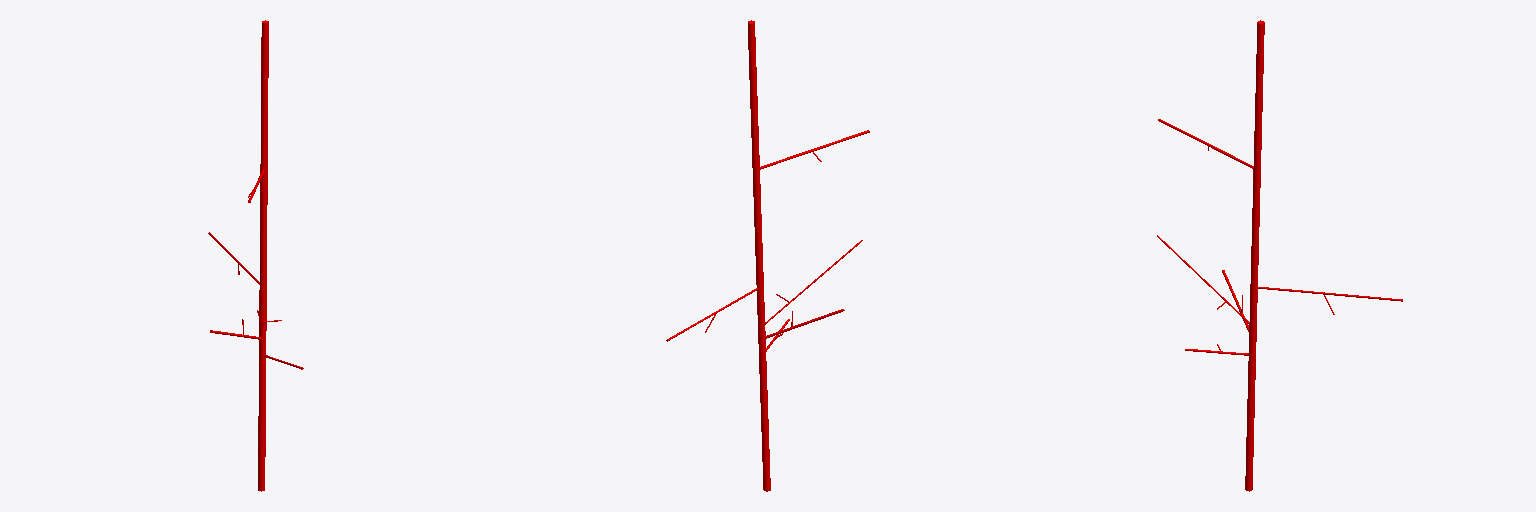
The robot description file, URDF, robot "tree_16.urdf":
<?xml version='1.0' encoding='UTF-8'?>
<robot name="tree_16.urdf">
  <link name="branch_0">
    <inertial>
      <origin xyz="0.0 0.0 0.0" rpy="0.0 -0.0 0.0"/>
      <mass value="0.1"/>
      <inertia ixx="0.001" ixy="0.0" ixz="0.0" iyy="0.001" iyz="0.0" izz="0.001"/>
    </inertial>
    <visual name="branch_0_visual">
      <geometry>
        <cylinder radius="0.05346597103672451" length="7.433625154566407"/>
      </geometry>
      <material name="semantic_material"/>
      <origin xyz="0.08146282148305269 0.08699932972438991 3.7149011642295595" rpy="-3.469446951953614e-18 0.03207196387778841 0.818251336350837"/>
    </visual>
    <collision name="branch_0_collision">
      <geometry>
        <cylinder radius="0.05346597103672451" length="7.433625154566407"/>
      </geometry>
      <origin xyz="0.08146282148305269 0.08699932972438991 3.7149011642295595" rpy="-3.469446951953614e-18 0.03207196387778841 0.818251336350837"/>
    </collision>
  </link>
  <link name="branch_1">
    <inertial>
      <origin xyz="0.0 0.0 0.0" rpy="0.0 -0.0 0.0"/>
      <mass value="0.1"/>
      <inertia ixx="0.001" ixy="0.0" ixz="0.0" iyy="0.001" iyz="0.0" izz="0.001"/>
    </inertial>
    <visual name="branch_1_visual">
      <geometry>
        <cylinder radius="0.019947054964667997" length="1.7808226315920987"/>
      </geometry>
      <material name="semantic_material"/>
      <origin xyz="0.0 0.0 0.0" rpy="0.0 -0.0 0.0"/>
    </visual>
    <collision name="branch_1_collision">
      <geometry>
        <cylinder radius="0.019947054964667997" length="1.7808226315920987"/>
      </geometry>
      <origin xyz="0.0 0.0 0.0" rpy="0.0 -0.0 0.0"/>
    </collision>
  </link>
  <link name="branch_2">
    <inertial>
      <origin xyz="0.0 0.0 0.0" rpy="0.0 -0.0 0.0"/>
      <mass value="0.1"/>
      <inertia ixx="0.001" ixy="0.0" ixz="0.0" iyy="0.001" iyz="0.0" izz="0.001"/>
    </inertial>
    <visual name="branch_2_visual">
      <geometry>
        <cylinder radius="0.01" length="0.2165540389826464"/>
      </geometry>
      <material name="semantic_material"/>
      <origin xyz="0.0 0.0 0.0" rpy="0.0 -0.0 0.0"/>
    </visual>
    <collision name="branch_2_collision">
      <geometry>
        <cylinder radius="0.01" length="0.2165540389826464"/>
      </geometry>
      <origin xyz="0.0 0.0 0.0" rpy="0.0 -0.0 0.0"/>
    </collision>
  </link>
  <link name="branch_3">
    <inertial>
      <origin xyz="0.0 0.0 0.0" rpy="0.0 -0.0 0.0"/>
      <mass value="0.1"/>
      <inertia ixx="0.001" ixy="0.0" ixz="0.0" iyy="0.001" iyz="0.0" izz="0.001"/>
    </inertial>
    <visual name="branch_3_visual">
      <geometry>
        <cylinder radius="0.012108009199315843" length="1.919746235743183"/>
      </geometry>
      <material name="semantic_material"/>
      <origin xyz="0.0 0.0 0.0" rpy="0.0 -0.0 0.0"/>
    </visual>
    <collision name="branch_3_collision">
      <geometry>
        <cylinder radius="0.012108009199315843" length="1.919746235743183"/>
      </geometry>
      <origin xyz="0.0 0.0 0.0" rpy="0.0 -0.0 0.0"/>
    </collision>
  </link>
  <link name="branch_4">
    <inertial>
      <origin xyz="0.0 0.0 0.0" rpy="0.0 -0.0 0.0"/>
      <mass value="0.1"/>
      <inertia ixx="0.001" ixy="0.0" ixz="0.0" iyy="0.001" iyz="0.0" izz="0.001"/>
    </inertial>
    <visual name="branch_4_visual">
      <geometry>
        <cylinder radius="0.01" length="0.30930784770366343"/>
      </geometry>
      <material name="semantic_material"/>
      <origin xyz="0.0 0.0 0.0" rpy="0.0 -0.0 0.0"/>
    </visual>
    <collision name="branch_4_collision">
      <geometry>
        <cylinder radius="0.01" length="0.30930784770366343"/>
      </geometry>
      <origin xyz="0.0 0.0 0.0" rpy="0.0 -0.0 0.0"/>
    </collision>
  </link>
  <link name="branch_5">
    <inertial>
      <origin xyz="0.0 0.0 0.0" rpy="0.0 -0.0 0.0"/>
      <mass value="0.1"/>
      <inertia ixx="0.001" ixy="0.0" ixz="0.0" iyy="0.001" iyz="0.0" izz="0.001"/>
    </inertial>
    <visual name="branch_5_visual">
      <geometry>
        <cylinder radius="0.015660022195785665" length="2.147969629325459"/>
      </geometry>
      <material name="semantic_material"/>
      <origin xyz="0.0 0.0 0.0" rpy="0.0 -0.0 0.0"/>
    </visual>
    <collision name="branch_5_collision">
      <geometry>
        <cylinder radius="0.015660022195785665" length="2.147969629325459"/>
      </geometry>
      <origin xyz="0.0 0.0 0.0" rpy="0.0 -0.0 0.0"/>
    </collision>
  </link>
  <link name="branch_6">
    <inertial>
      <origin xyz="0.0 0.0 0.0" rpy="0.0 -0.0 0.0"/>
      <mass value="0.1"/>
      <inertia ixx="0.001" ixy="0.0" ixz="0.0" iyy="0.001" iyz="0.0" izz="0.001"/>
    </inertial>
    <visual name="branch_6_visual">
      <geometry>
        <cylinder radius="0.01" length="0.3404408907788154"/>
      </geometry>
      <material name="semantic_material"/>
      <origin xyz="0.0 0.0 0.0" rpy="0.0 -0.0 0.0"/>
    </visual>
    <collision name="branch_6_collision">
      <geometry>
        <cylinder radius="0.01" length="0.3404408907788154"/>
      </geometry>
      <origin xyz="0.0 0.0 0.0" rpy="0.0 -0.0 0.0"/>
    </collision>
  </link>
  <link name="branch_7">
    <inertial>
      <origin xyz="0.0 0.0 0.0" rpy="0.0 -0.0 0.0"/>
      <mass value="0.1"/>
      <inertia ixx="0.001" ixy="0.0" ixz="0.0" iyy="0.001" iyz="0.0" izz="0.001"/>
    </inertial>
    <visual name="branch_7_visual">
      <geometry>
        <cylinder radius="0.01698442685549723" length="0.9789955996651531"/>
      </geometry>
      <material name="semantic_material"/>
      <origin xyz="0.0 0.0 0.0" rpy="0.0 -0.0 0.0"/>
    </visual>
    <collision name="branch_7_collision">
      <geometry>
        <cylinder radius="0.01698442685549723" length="0.9789955996651531"/>
      </geometry>
      <origin xyz="0.0 0.0 0.0" rpy="0.0 -0.0 0.0"/>
    </collision>
  </link>
  <link name="branch_8">
    <inertial>
      <origin xyz="0.0 0.0 0.0" rpy="0.0 -0.0 0.0"/>
      <mass value="0.1"/>
      <inertia ixx="0.001" ixy="0.0" ixz="0.0" iyy="0.001" iyz="0.0" izz="0.001"/>
    </inertial>
    <visual name="branch_8_visual">
      <geometry>
        <cylinder radius="0.01" length="0.1418764496053914"/>
      </geometry>
      <material name="semantic_material"/>
      <origin xyz="0.0 0.0 0.0" rpy="0.0 -0.0 0.0"/>
    </visual>
    <collision name="branch_8_collision">
      <geometry>
        <cylinder radius="0.01" length="0.1418764496053914"/>
      </geometry>
      <origin xyz="0.0 0.0 0.0" rpy="0.0 -0.0 0.0"/>
    </collision>
  </link>
  <link name="branch_9">
    <inertial>
      <origin xyz="0.0 0.0 0.0" rpy="0.0 -0.0 0.0"/>
      <mass value="0.1"/>
      <inertia ixx="0.001" ixy="0.0" ixz="0.0" iyy="0.001" iyz="0.0" izz="0.001"/>
    </inertial>
    <visual name="branch_9_visual">
      <geometry>
        <cylinder radius="0.019860402878254527" length="1.3097560326485693"/>
      </geometry>
      <material name="semantic_material"/>
      <origin xyz="0.0 0.0 0.0" rpy="0.0 -0.0 0.0"/>
    </visual>
    <collision name="branch_9_collision">
      <geometry>
        <cylinder radius="0.019860402878254527" length="1.3097560326485693"/>
      </geometry>
      <origin xyz="0.0 0.0 0.0" rpy="0.0 -0.0 0.0"/>
    </collision>
  </link>
  <link name="branch_10">
    <inertial>
      <origin xyz="0.0 0.0 0.0" rpy="0.0 -0.0 0.0"/>
      <mass value="0.1"/>
      <inertia ixx="0.001" ixy="0.0" ixz="0.0" iyy="0.001" iyz="0.0" izz="0.001"/>
    </inertial>
    <visual name="branch_10_visual">
      <geometry>
        <cylinder radius="0.01" length="0.2804447358448984"/>
      </geometry>
      <material name="semantic_material"/>
      <origin xyz="0.0 0.0 0.0" rpy="0.0 -0.0 0.0"/>
    </visual>
    <collision name="branch_10_collision">
      <geometry>
        <cylinder radius="0.01" length="0.2804447358448984"/>
      </geometry>
      <origin xyz="0.0 0.0 0.0" rpy="0.0 -0.0 0.0"/>
    </collision>
  </link>
  <joint name="joint_0_1" type="fixed">
    <parent link="branch_0"/>
    <child link="branch_1"/>
    <axis xyz="1. 0. 0."/>
    <origin xyz="-0.4188180127271877 -0.581438791322588 5.231613971937533" rpy="-0.020609404250638782 1.4084710269438547 -2.2396823363529164"/>
  </joint>
  <joint name="joint_0_3" type="fixed">
    <parent link="branch_0"/>
    <child link="branch_3"/>
    <axis xyz="1. 0. 0."/>
    <origin xyz="-0.3831754892366897 -0.6226228715307687 3.100907194558492" rpy="-0.010609910394628991 1.0096300318249845 -2.1554120826665155"/>
  </joint>
  <joint name="joint_0_5" type="fixed">
    <parent link="branch_0"/>
    <child link="branch_5"/>
    <axis xyz="1. 0. 0."/>
    <origin xyz="0.22933992898553096 1.1371129544536822 3.1876914314851335" rpy="2.57384237364323 1.536930587211387 -2.287240120587907"/>
  </joint>
  <joint name="joint_0_7" type="fixed">
    <parent link="branch_0"/>
    <child link="branch_7"/>
    <axis xyz="1. 0. 0."/>
    <origin xyz="0.10776341906897453 -0.4304697450751265 2.2126912804204855" rpy="-0.17063580575992807 1.4253396499817585 -1.6174414636784842"/>
  </joint>
  <joint name="joint_0_9" type="fixed">
    <parent link="branch_0"/>
    <child link="branch_9"/>
    <axis xyz="1. 0. 0."/>
    <origin xyz="-0.504068845517846 -0.1542888108222982 2.6741380465862066" rpy="0.03346362632346233 1.1402856035525337 -2.7432515682251393"/>
  </joint>
  <joint name="joint_1_2" type="fixed">
    <parent link="branch_0"/>
    <child link="branch_2"/>
    <axis xyz="1. 0. 0."/>
    <origin xyz="-0.4870509771968823 -0.5754547726724496 5.152736751431529" rpy="-2.4707948322849433 0.4412957830207257 1.1380832052112269"/>
  </joint>
  <joint name="joint_3_4" type="fixed">
    <parent link="branch_0"/>
    <child link="branch_4"/>
    <axis xyz="1. 0. 0."/>
    <origin xyz="-0.047372920390408295 -0.3826014972206309 2.8819810575430114" rpy="1.5242792682531463 0.5712812193131079 1.1403713657860841"/>
  </joint>
  <joint name="joint_5_6" type="fixed">
    <parent link="branch_0"/>
    <child link="branch_6"/>
    <axis xyz="1. 0. 0."/>
    <origin xyz="0.2706092047639878 1.1385602709544995 3.046026099407022" rpy="-2.825893626200566 0.4765518259853652 -1.5623110212700757"/>
  </joint>
  <joint name="joint_7_8" type="fixed">
    <parent link="branch_0"/>
    <child link="branch_8"/>
    <axis xyz="1. 0. 0."/>
    <origin xyz="0.051223252205372716 -0.4170443046181306 2.246400138742006" rpy="-0.9723260763578512 -0.0811879914236658 2.02598250020802"/>
  </joint>
  <joint name="joint_9_10" type="fixed">
    <parent link="branch_0"/>
    <child link="branch_10"/>
    <axis xyz="1. 0. 0."/>
    <origin xyz="-0.36140717385308985 -0.0935478907836718 2.7403548481157114" rpy="-0.046278931735972896 -0.040082589040176024 0.3846144652758232"/>
  </joint>
  <material name="semantic_material">
    <color rgba="1. 0. 0. 1."/>
  </material>
</robot>

--- Render facts (derived) ---
The picture shows the robot from 3 angles, left to right: view 1: azimuth 30°, elevation 25°; view 2: azimuth 150°, elevation 25°; view 3: azimuth 270°, elevation 25°; orthographic projection.
Model tree_16.urdf with 11 links and 10 joints (10 fixed), rooted at branch_0, posed all joints at 0.
Visible links, largest first — view 1: branch_0; view 2: branch_0; view 3: branch_0.
Link boxes in pixels (<box>): branch_0: <box>258,20,268,491</box>; branch_0: <box>748,20,770,491</box>; branch_0: <box>1245,20,1264,491</box>.
Bounding box of the posed robot: 1.47 × 3.52 × 7.43 m (x, y, z).
Geometry: primitives only (box / cylinder / sphere), no mesh files.
